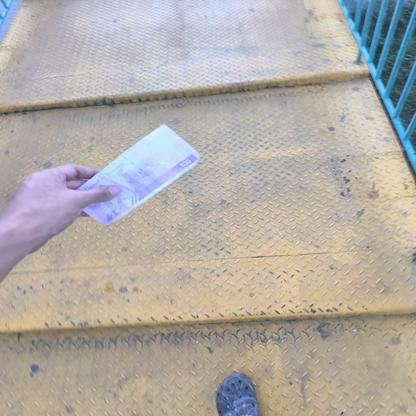one_hundred-back-vef: (72, 122, 200, 226)
